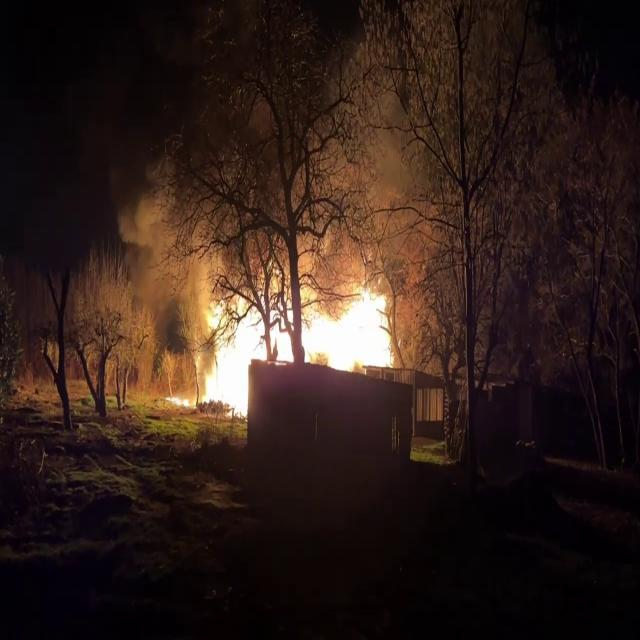Fire: (186, 262, 400, 417)
Smoke: (301, 0, 514, 292), (124, 98, 278, 336)
